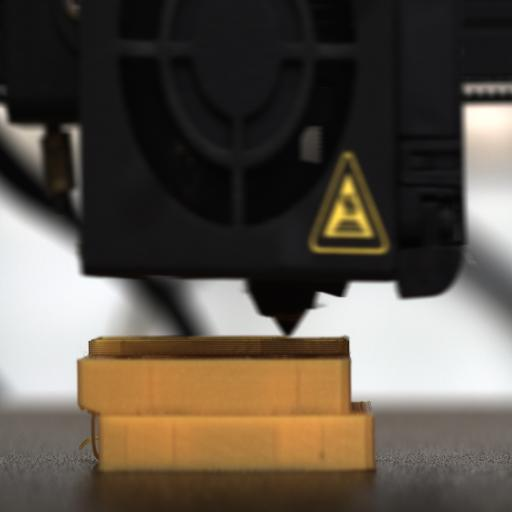layer_shift: (75, 396, 375, 421)
